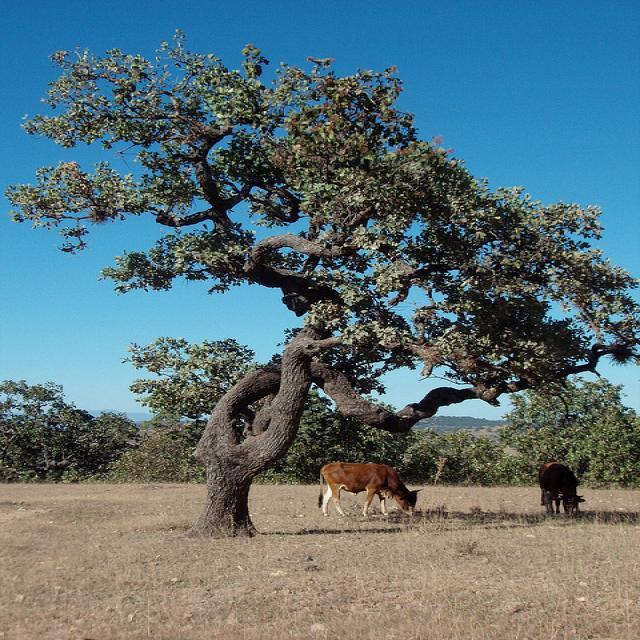cow: (316, 461, 421, 517), (538, 461, 586, 514)
